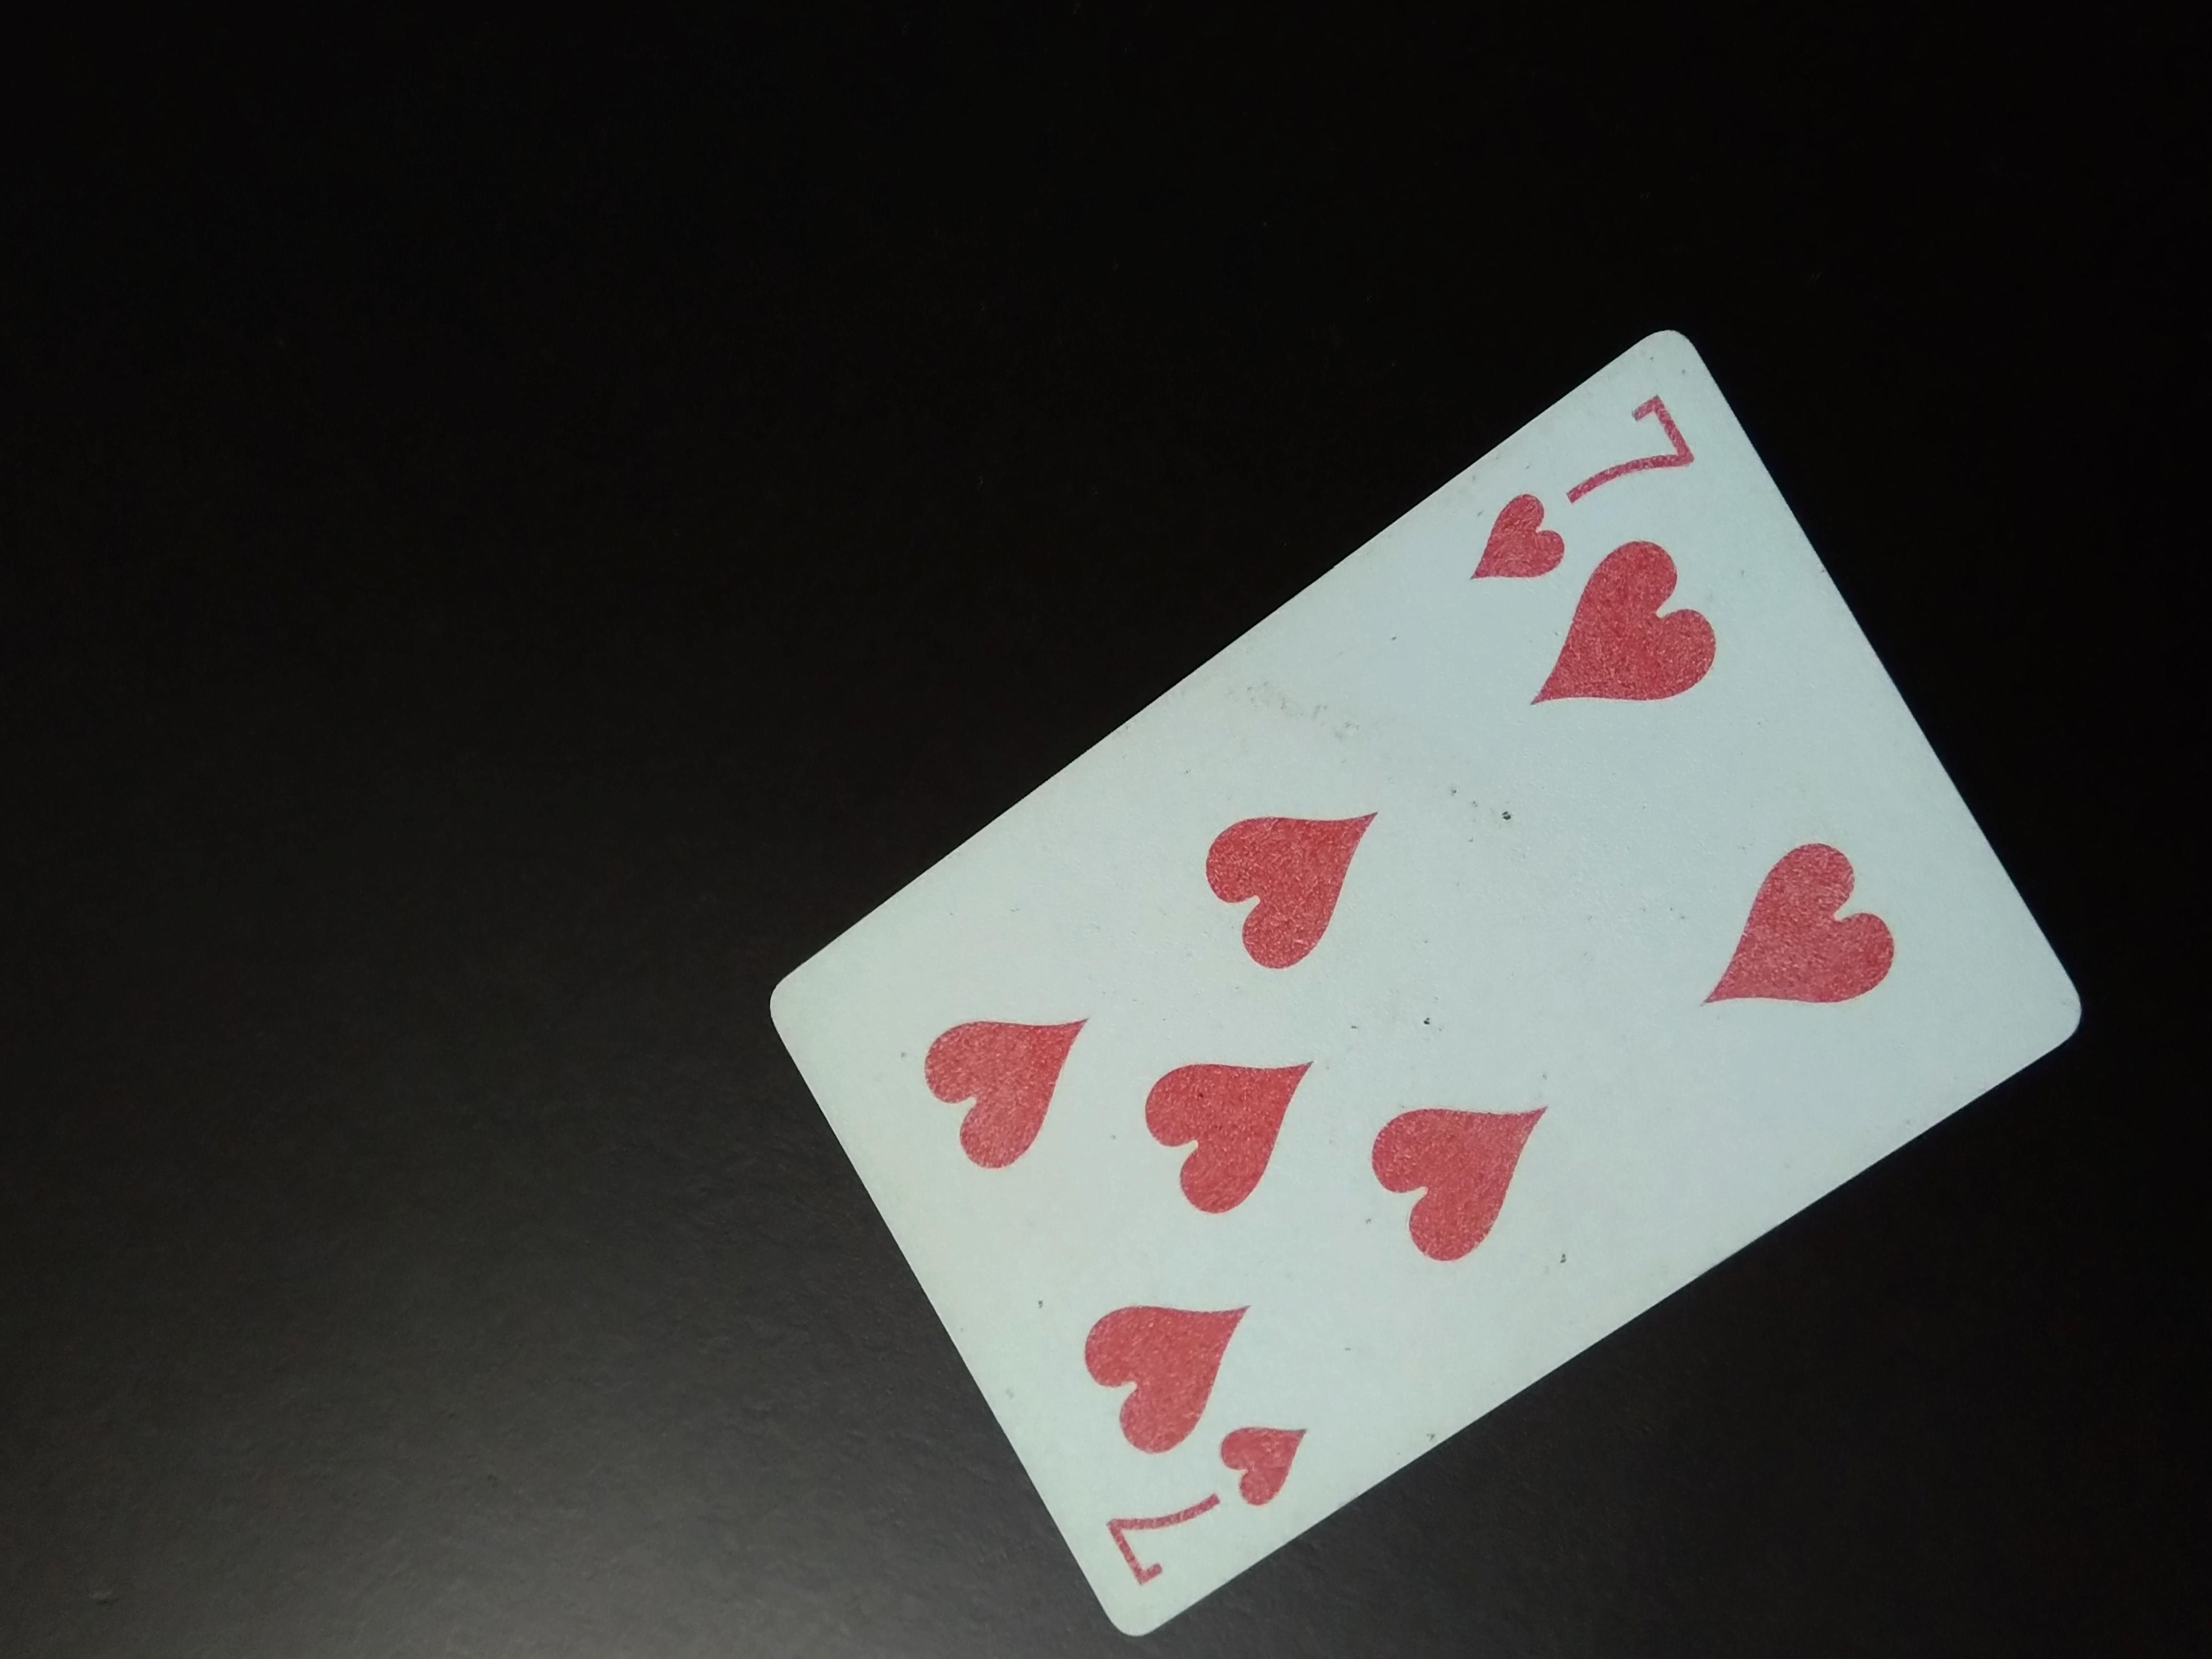7H: (1475, 378, 1714, 584)
